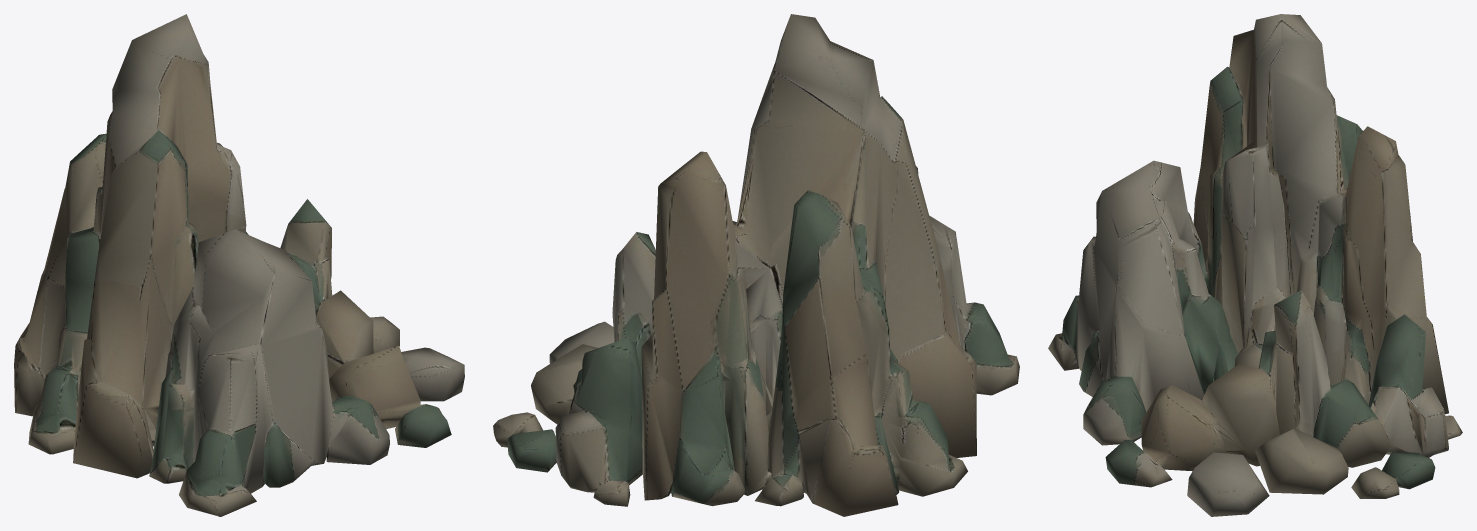
File: Rock02_SongDynasty.glb
3 views of the same model, side by side, from view 1: azimuth 30°, elevation 25°; view 2: azimuth 150°, elevation 25°; view 3: azimuth 270°, elevation 25° (orthographic). The views are drawn at different scales.
Visible parts, largest first — view 1: tripo_node_d8dc2f83-ccef-4d1a-9414-a8c0cb3eb3d2; view 2: tripo_node_d8dc2f83-ccef-4d1a-9414-a8c0cb3eb3d2; view 3: tripo_node_d8dc2f83-ccef-4d1a-9414-a8c0cb3eb3d2.
Part boxes in pixels (x1,y1,x2,y2): tripo_node_d8dc2f83-ccef-4d1a-9414-a8c0cb3eb3d2: (14,14,464,516); tripo_node_d8dc2f83-ccef-4d1a-9414-a8c0cb3eb3d2: (493,14,1019,516); tripo_node_d8dc2f83-ccef-4d1a-9414-a8c0cb3eb3d2: (1048,14,1462,516).
Bounding box in the file's own units: 0.998 × 0.9824 × 0.9434.
Materials: 1 (1 with a texture image).
